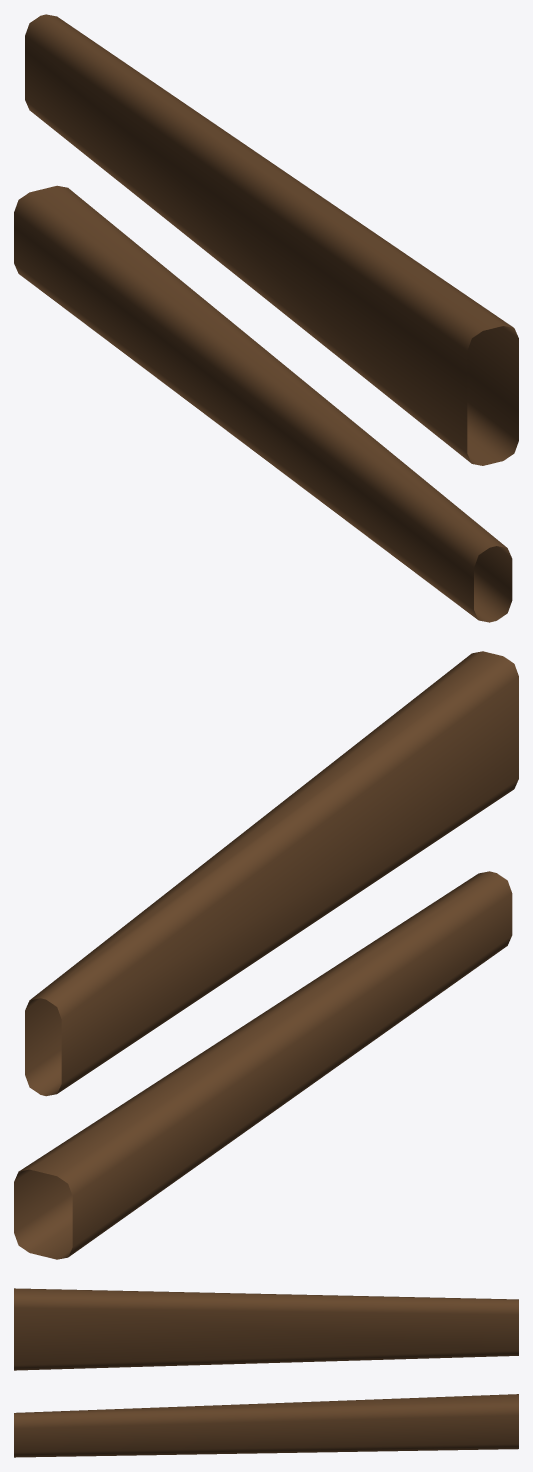
Rendered from fence-type-1.fbx.
3 renders of one model, top to bottom at view 1: azimuth 30°, elevation 25°; view 2: azimuth 150°, elevation 25°; view 3: azimuth 270°, elevation 25°, orthographic. The views are drawn at different scales.
Parts seen in each view (by area): view 1: fence-type-1; view 2: fence-type-1; view 3: fence-type-1.
Boxes of the visible parts, bbox=[...] form: fence-type-1: bbox=[14, 14, 518, 622]; fence-type-1: bbox=[14, 651, 518, 1259]; fence-type-1: bbox=[14, 1288, 518, 1457].
Size of the model in its own units: 0.1507 by 0.7194 by 2.
